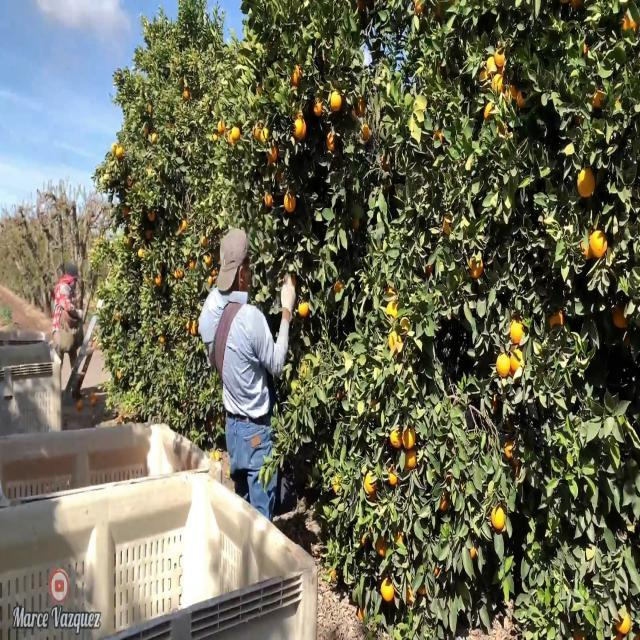Jeruk Sudah Matang: (379, 573, 396, 640), (575, 167, 596, 202), (507, 315, 526, 345), (548, 308, 568, 334), (590, 229, 608, 257), (490, 506, 508, 534), (400, 424, 418, 452), (290, 116, 308, 141), (495, 348, 510, 378), (384, 462, 400, 489), (402, 450, 420, 470), (363, 470, 376, 496), (282, 190, 298, 210), (324, 132, 338, 154), (389, 426, 402, 448), (328, 92, 342, 112), (229, 125, 241, 144), (360, 124, 370, 142)
